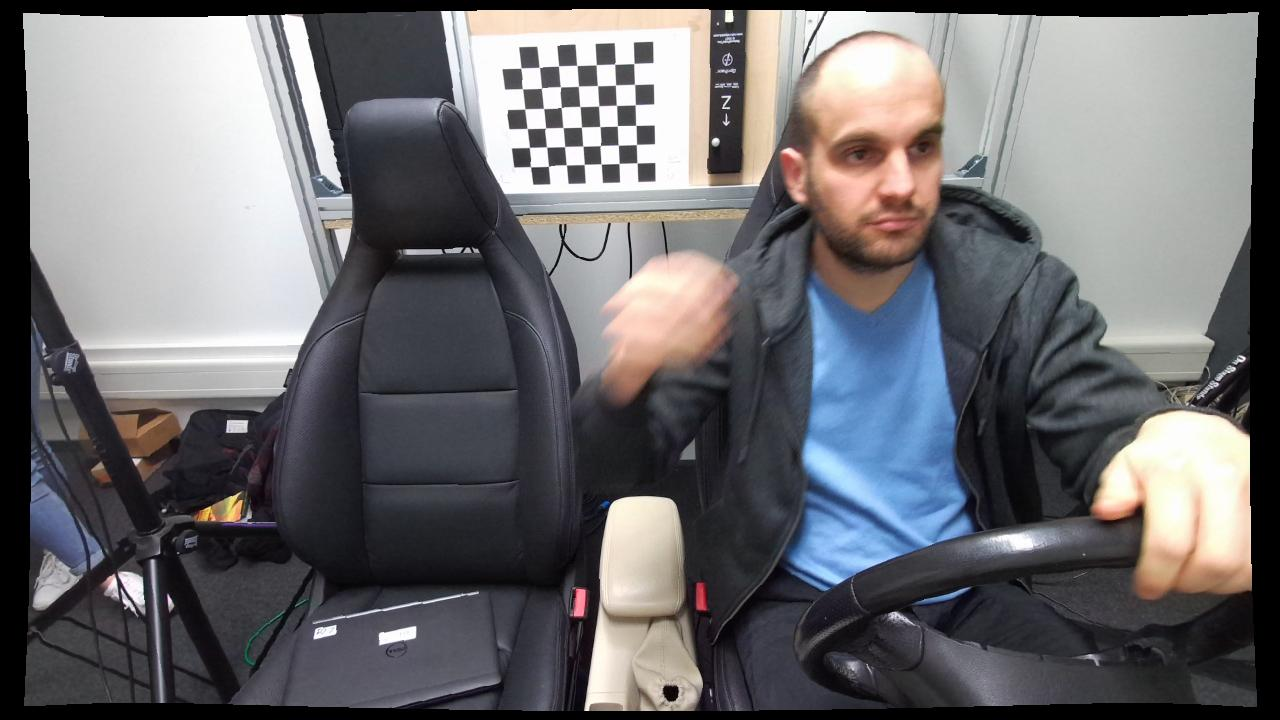Distracted: (565, 28, 1245, 708)
